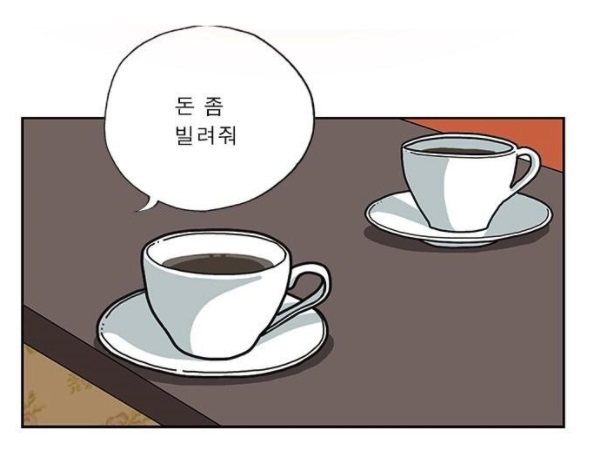coffee: (129, 227, 337, 364), (398, 131, 550, 236)
cup: (132, 229, 339, 363), (394, 129, 546, 234)
